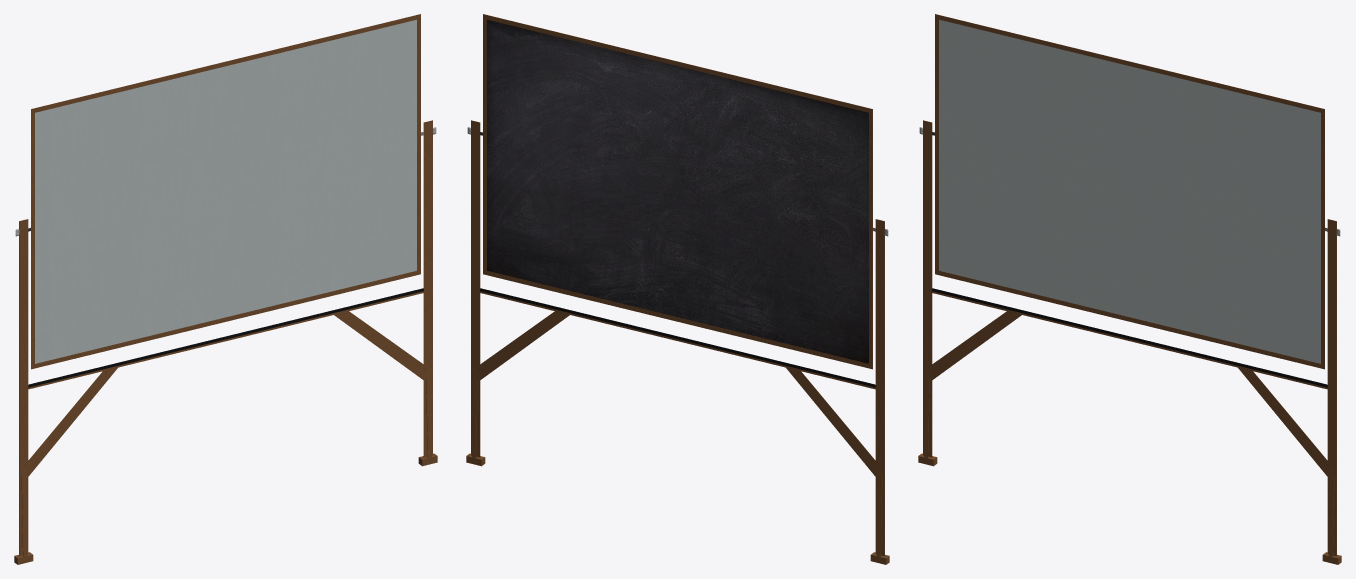
The model's file is whiteboard.glb.
The picture shows the model from 3 angles, left to right: view 1: azimuth 30°, elevation 25°; view 2: azimuth 150°, elevation 25°; view 3: azimuth 330°, elevation 25°; orthographic projection.
Visible parts, largest first — view 1: Whiteboard; view 2: Whiteboard; view 3: Whiteboard.
Part boxes in pixels (left/top/right/bottom): Whiteboard: left=14, top=14, right=437, bottom=564; Whiteboard: left=466, top=14, right=889, bottom=564; Whiteboard: left=918, top=14, right=1341, bottom=564.
Size of the model in its own units: 1.66 by 1.7 by 0.0243.
Materials: 6 (6 with a texture image).
